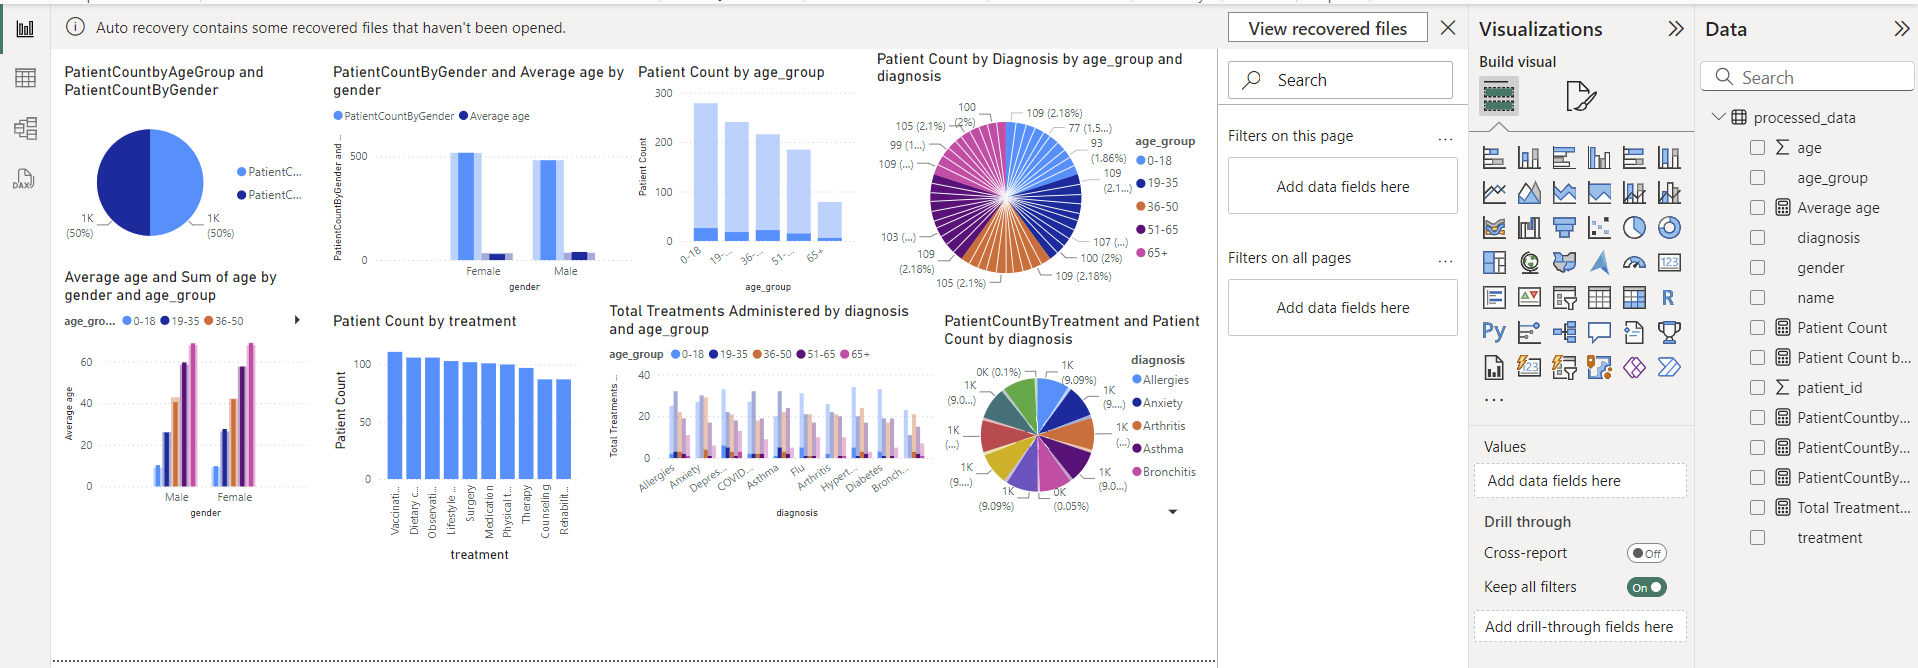

The page's visual inventory and layout, read from the dashboard file:
{"tool":"powerbi","page":{"name":"Page 1","canvas":[1280,720],"ordinal":0},"visuals":[{"type":"clusteredColumnChart","fields":{"Y":["processed_data.Patient Count"],"Category":["processed_data.treatment"]},"box":[304.6,337.6,279.9,279.9],"z":0},{"type":"clusteredColumnChart","fields":{"Y":["processed_data.Average age"],"Category":["processed_data.gender"],"Series":["processed_data.age_group"]},"box":[10,290,280,280],"z":1},{"type":"clusteredColumnChart","fields":{"Y":["processed_data.PatientCountByGender","processed_data.Average age"],"Category":["processed_data.gender"]},"box":[304.6,64.5,382.8,256.6],"z":2},{"type":"pieChart","fields":{"Y":["processed_data.PatientCountbyAgeGroup","processed_data.PatientCountByGender"]},"box":[9.6,64.5,279.9,225],"z":3},{"type":"clusteredColumnChart","fields":{"Y":["processed_data.Patient Count"],"Category":["processed_data.age_group"]},"box":[639.5,64.5,248.4,256.6],"z":5},{"type":"pieChart","fields":{"Category":["processed_data.age_group"],"Y":["processed_data.Patient Count by Diagnosis"],"Series":["processed_data.diagnosis"]},"box":[901.5,49.4,378.7,288.2],"z":6},{"type":"clusteredColumnChart","fields":{"Y":["processed_data.Total Treatments Administered"],"Category":["processed_data.diagnosis"],"Series":["processed_data.age_group"]},"box":[607.9,326.6,367.8,242.9],"z":7},{"type":"pieChart","fields":{"Category":["processed_data.diagnosis","processed_data.treatment"],"Y":["processed_data.PatientCountByTreatment","processed_data.Patient Count"]},"box":[976,337,304,233],"z":8}]}

Visuals, with their boxes in screenshot pixels (x1, y1, x2, y2):
clusteredColumnChart - processed_data.Patient Count x processed_data.treatment: box(179, 319, 436, 576)
clusteredColumnChart - processed_data.Average age x processed_data.gender: box(0, 276, 166, 533)
clusteredColumnChart - processed_data.PatientCountByGender x processed_data.Average age: box(179, 69, 530, 304)
pieChart - processed_data.PatientCountbyAgeGroup x processed_data.PatientCountByGender: box(0, 69, 165, 275)
clusteredColumnChart - processed_data.Patient Count x processed_data.age_group: box(486, 69, 714, 304)
pieChart - processed_data.age_group x processed_data.Patient Count by Diagnosis: box(727, 55, 1074, 319)
clusteredColumnChart - processed_data.Total Treatments Administered x processed_data.diagnosis: box(457, 309, 795, 532)
pieChart - processed_data.diagnosis x processed_data.treatment: box(795, 319, 1074, 533)
